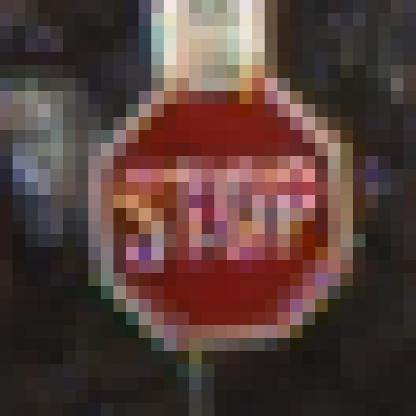Stop: (98, 84, 342, 342)
